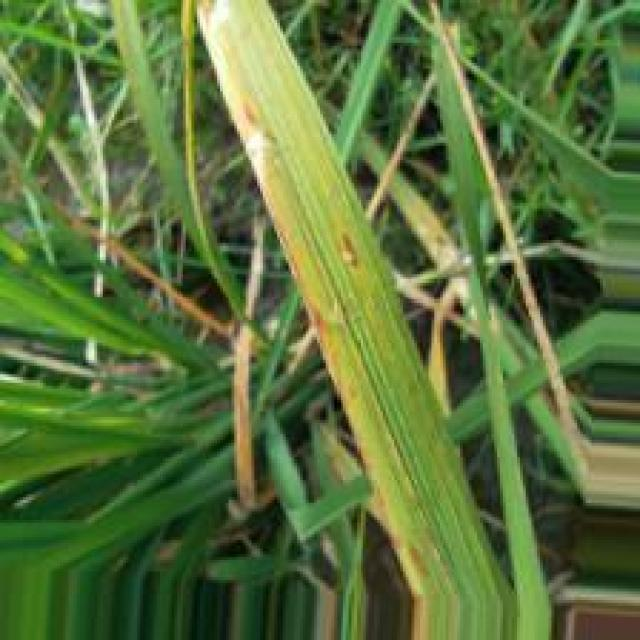Narrow_Brown_Leaf_Spot: (218, 80, 436, 640), (330, 230, 363, 269)
